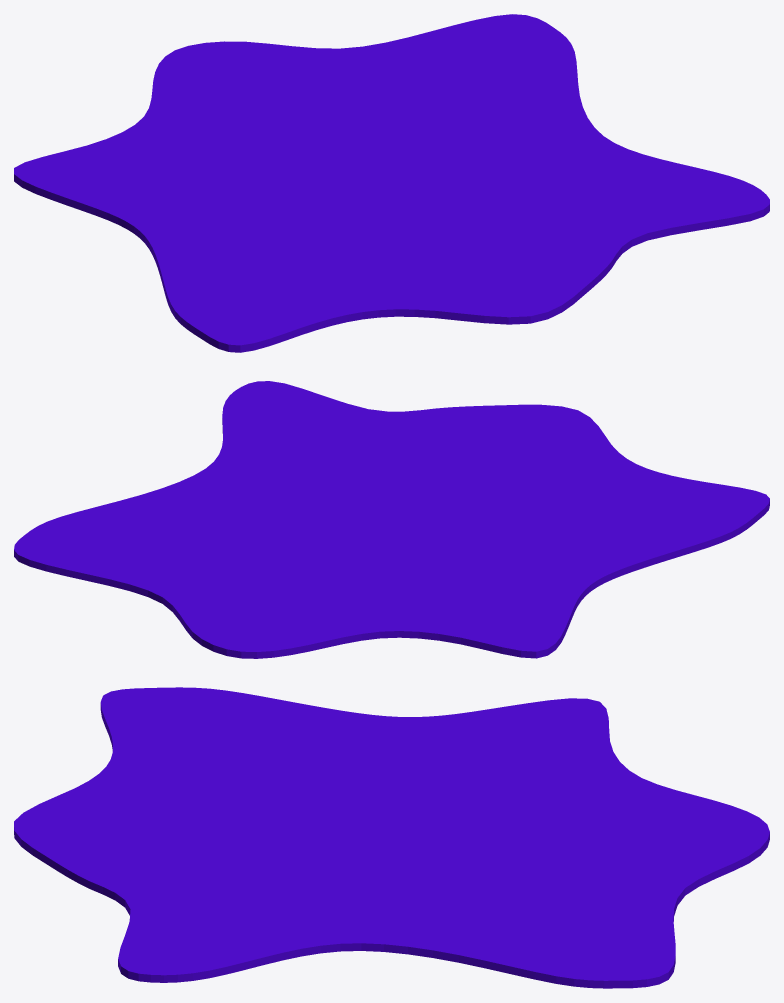
Rendered from jelly.FBX.
The picture shows the model from 3 angles, top to bottom: view 1: azimuth 30°, elevation 25°; view 2: azimuth 150°, elevation 25°; view 3: azimuth 270°, elevation 25°; orthographic projection. The views are drawn at different scales.
Visible parts, largest first — view 1: Jelly; view 2: Jelly; view 3: Jelly.
Part boxes in pixels (<box>): Jelly: <box>14,14,769,352</box>; Jelly: <box>14,381,769,658</box>; Jelly: <box>14,687,769,988</box>.
Bounding box in the file's own units: 0.00103 × 1.26e-05 × 0.00112.
